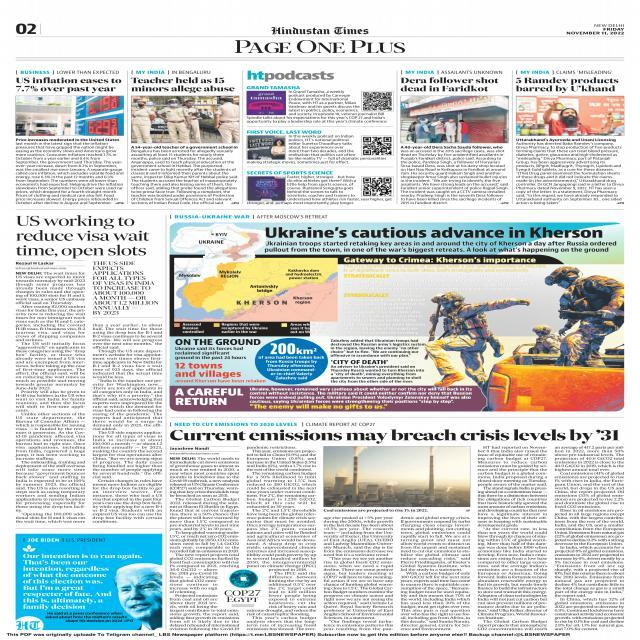Article: (166, 420, 630, 634), (168, 222, 626, 412), (10, 211, 164, 526), (514, 70, 632, 207), (11, 68, 126, 206), (127, 70, 243, 206), (396, 70, 512, 206), (244, 84, 396, 126), (244, 170, 396, 207), (245, 130, 396, 167)
Body: (14, 270, 87, 524), (90, 324, 164, 526), (476, 444, 550, 632), (552, 446, 626, 632), (245, 444, 318, 631), (168, 455, 241, 631), (321, 514, 394, 632), (399, 514, 472, 632), (515, 138, 628, 206), (14, 137, 125, 205), (130, 144, 242, 206), (399, 144, 511, 205), (247, 387, 477, 410), (258, 240, 620, 253), (328, 338, 428, 384), (288, 89, 360, 112), (286, 175, 356, 198), (288, 134, 356, 156), (245, 116, 388, 124), (286, 198, 394, 202), (246, 202, 354, 206), (246, 160, 352, 164), (287, 156, 388, 160), (287, 112, 387, 116)
Date: (560, 26, 628, 36)
Heading: (167, 428, 622, 444), (13, 212, 152, 258), (264, 226, 608, 238), (15, 74, 121, 94), (128, 75, 237, 93), (514, 76, 621, 92), (399, 76, 502, 92)
Highlights: (170, 338, 326, 385), (22, 552, 143, 610), (91, 260, 161, 316), (341, 292, 428, 336), (342, 274, 538, 292), (170, 388, 246, 410)
Image: (538, 265, 624, 412), (172, 258, 336, 320), (429, 292, 532, 384), (326, 446, 470, 507), (130, 95, 240, 144), (400, 96, 509, 144), (15, 96, 124, 136), (518, 95, 625, 135), (246, 91, 286, 115), (248, 136, 285, 160), (247, 176, 284, 200), (362, 176, 392, 196), (363, 136, 392, 156), (362, 92, 392, 110)
Name: (234, 38, 411, 56), (269, 24, 372, 36)
